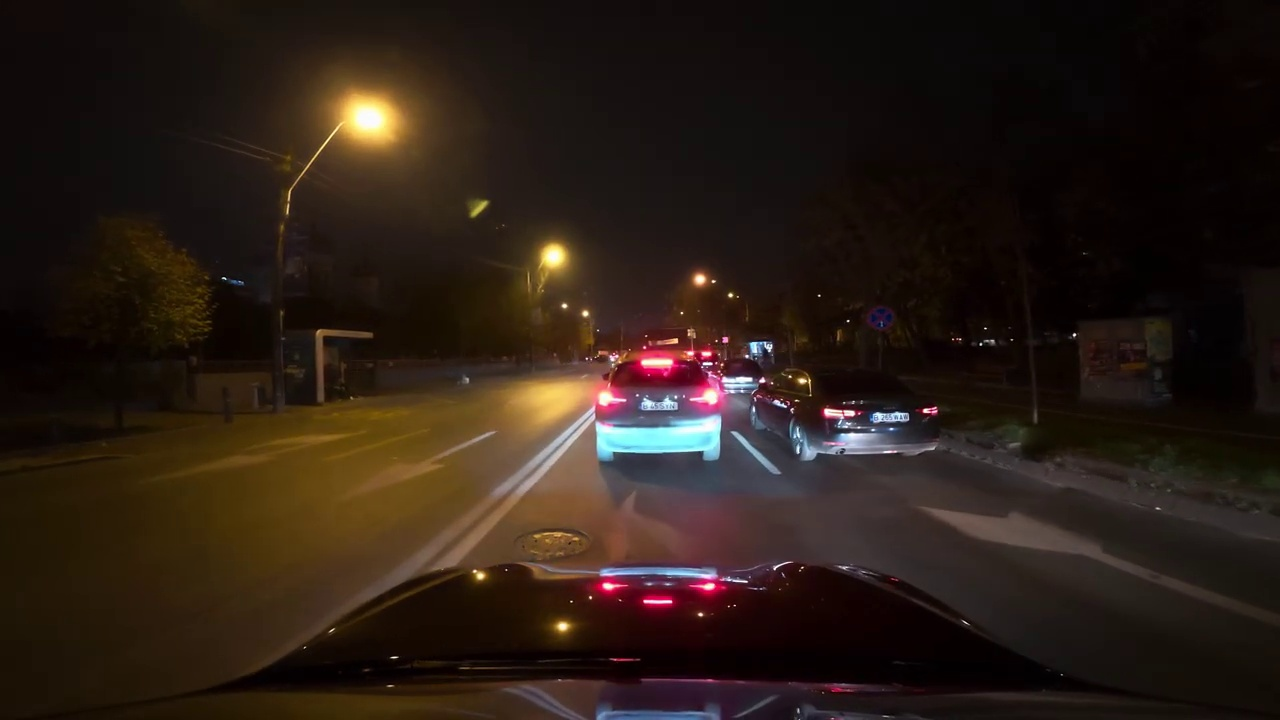acesa: (334, 94, 398, 152), (537, 242, 570, 275), (689, 268, 712, 291)
